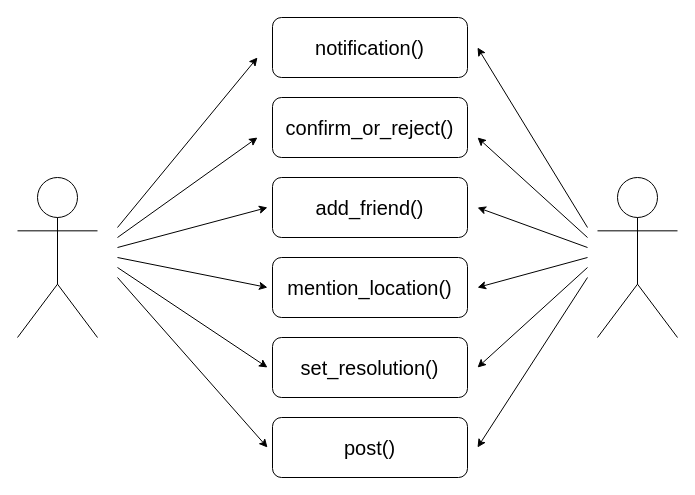
The diagram is 695 pixels wide and 495 high, and some of its shapes have lost their labels. The centre of each missing label's shape, as x and y in pixels:
Admin: the point at 57,257
User: the point at 637,257
